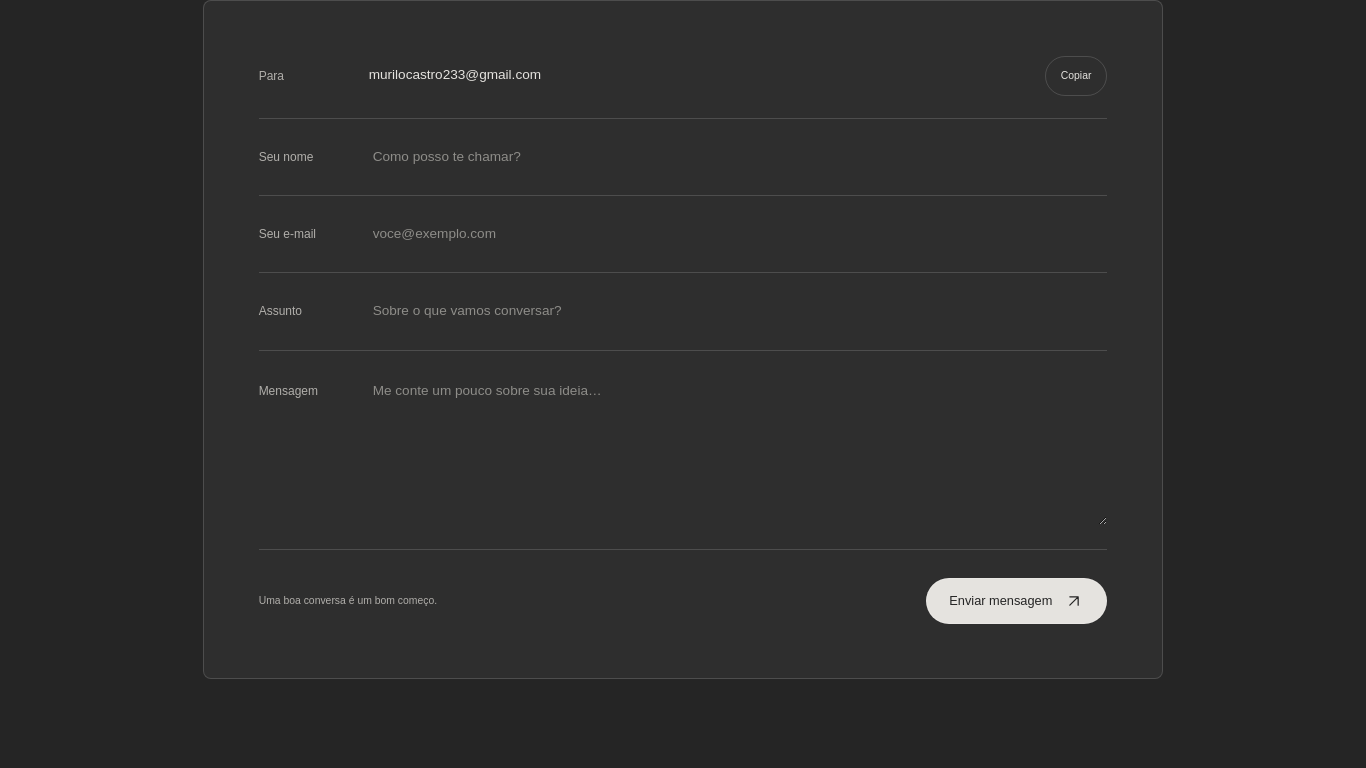
Test: Envio do contato › mostra validação por campo e não envia dados inválidos
The image size is (1366, 768).
Step 1. Click the button "Enviar mensagem" → click(1017, 601), box [926, 578, 1107, 624]
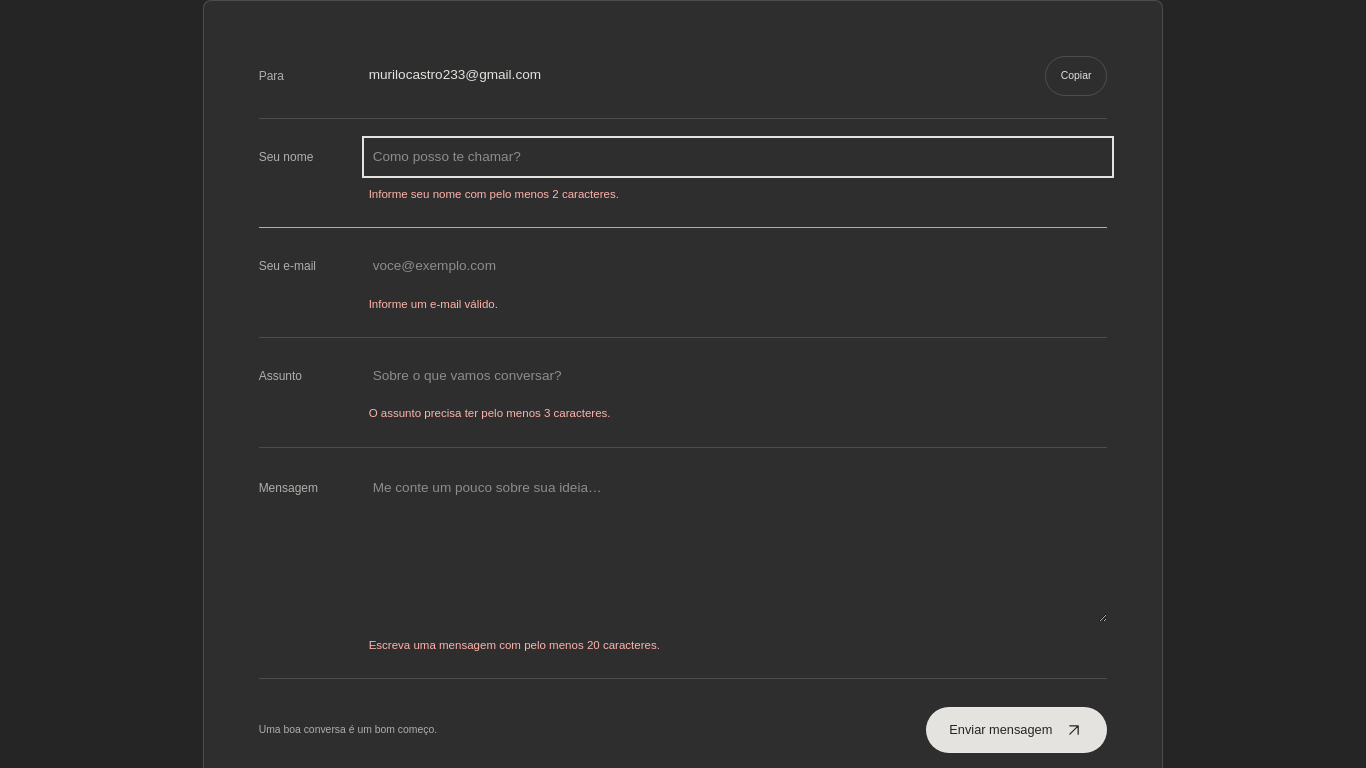
Check: the text "Informe um e-mail válido." is shown, box [369, 298, 498, 310]
